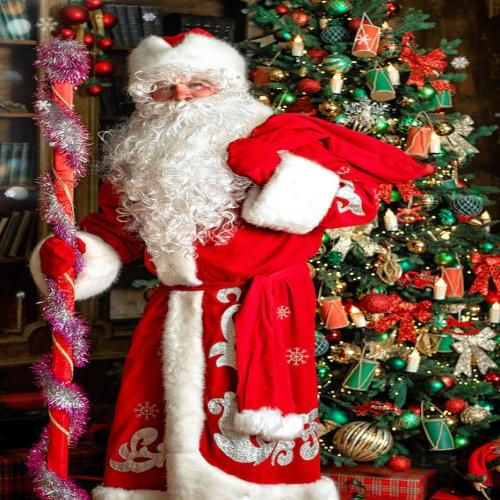Santa: (19, 32, 374, 500)
